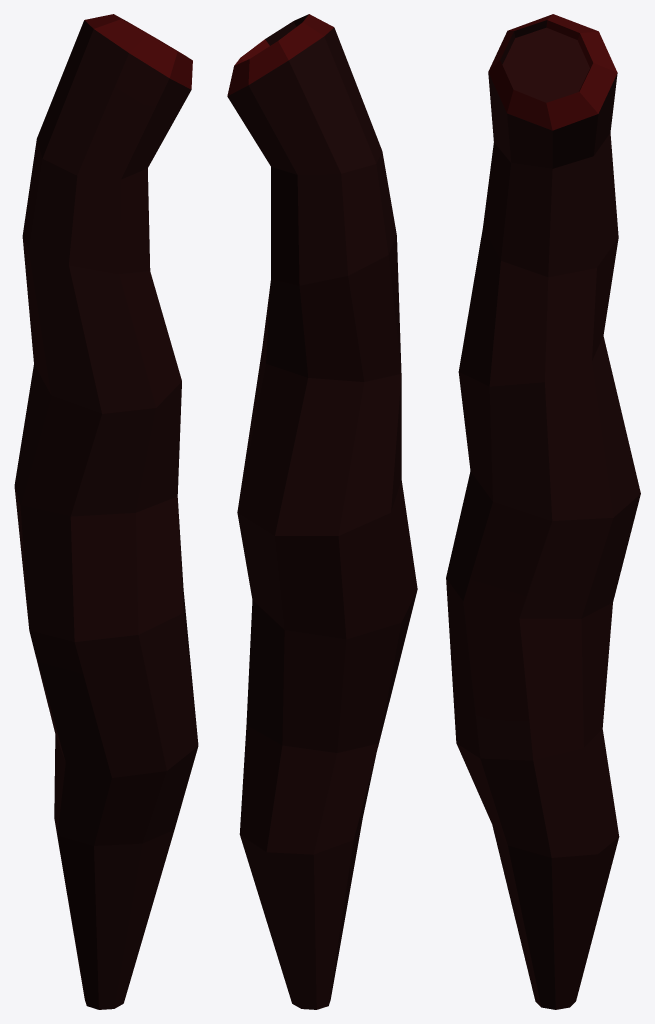
The model's file is Leech.glb.
3 views of the same model, side by side, from view 1: azimuth 30°, elevation 25°; view 2: azimuth 150°, elevation 25°; view 3: azimuth 270°, elevation 25° (orthographic).
Parts seen in each view (by area): view 1: Leech; view 2: Leech; view 3: Leech.
Boxes of the visible parts, x1=… form: Leech: x1=14, y1=14, x2=198, y2=1009; Leech: x1=227, y1=14, x2=417, y2=1009; Leech: x1=446, y1=14, x2=640, y2=1009.
Bounding box in the file's own units: 0.0146 × 0.0861 × 0.0154.
Materials: 1 (1 with a texture image).
